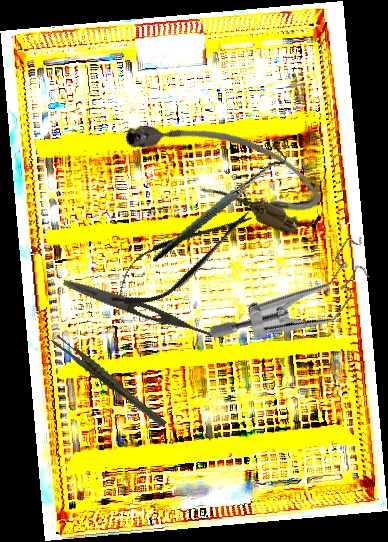Cannula: (115, 89, 331, 243)
Dressing Forceps: (61, 275, 228, 346)
Hook Surgical: (135, 141, 301, 263)
Micro Scissor: (98, 192, 265, 323)
Speculum: (206, 197, 387, 391)
Tissue Forceps: (50, 317, 168, 446)
